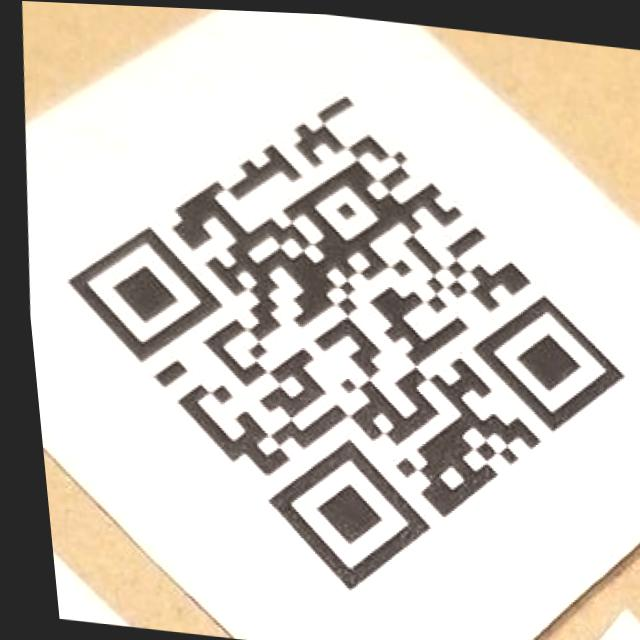QR_CODE: (25, 56, 640, 616)
